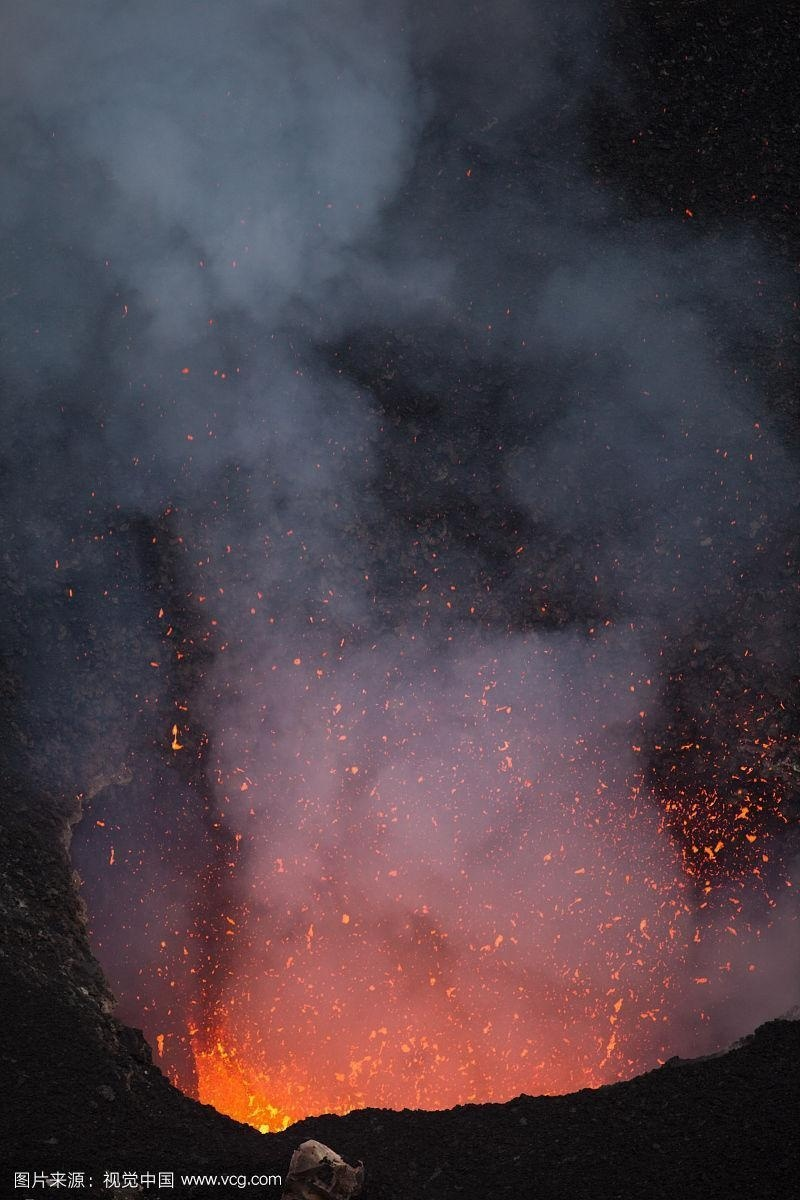fire: (166, 1024, 667, 1126)
